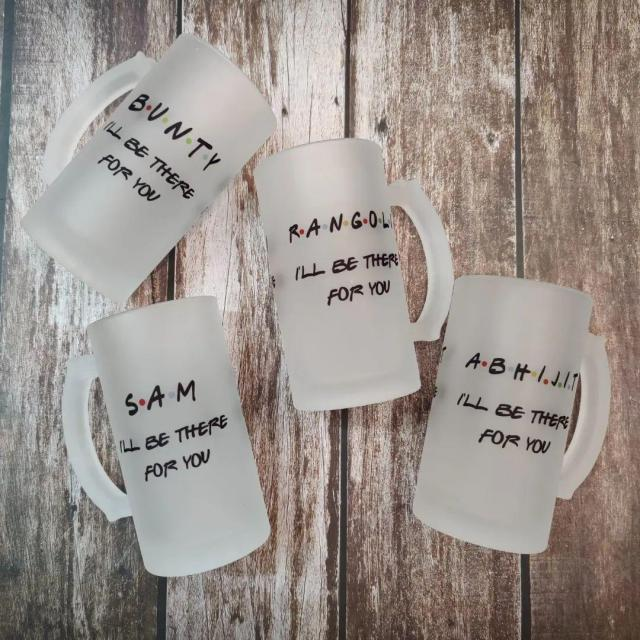glass-mug: (17, 27, 285, 308), (53, 293, 280, 579), (412, 272, 615, 560), (250, 137, 458, 408)
